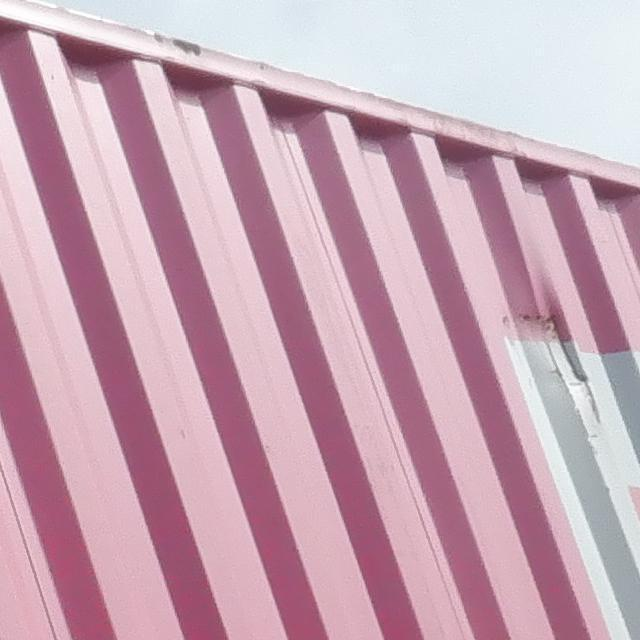dent: (510, 296, 619, 408)
